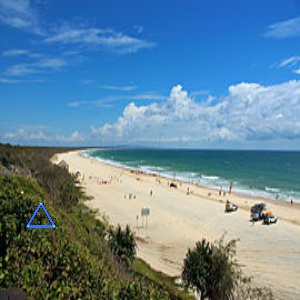triangle: (23, 201, 57, 230)
